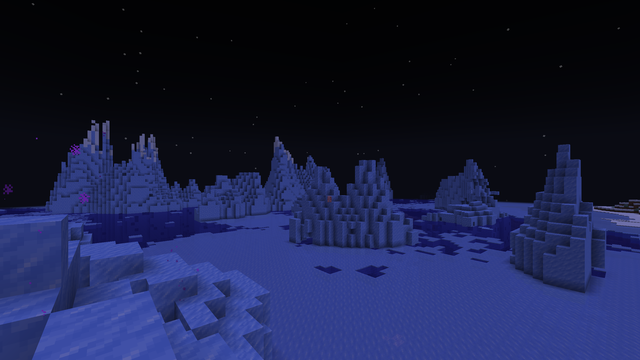cochons: (325, 196, 332, 202)
